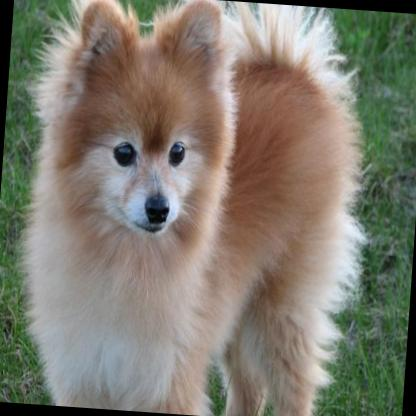Pomeranian: (9, 0, 378, 416)
